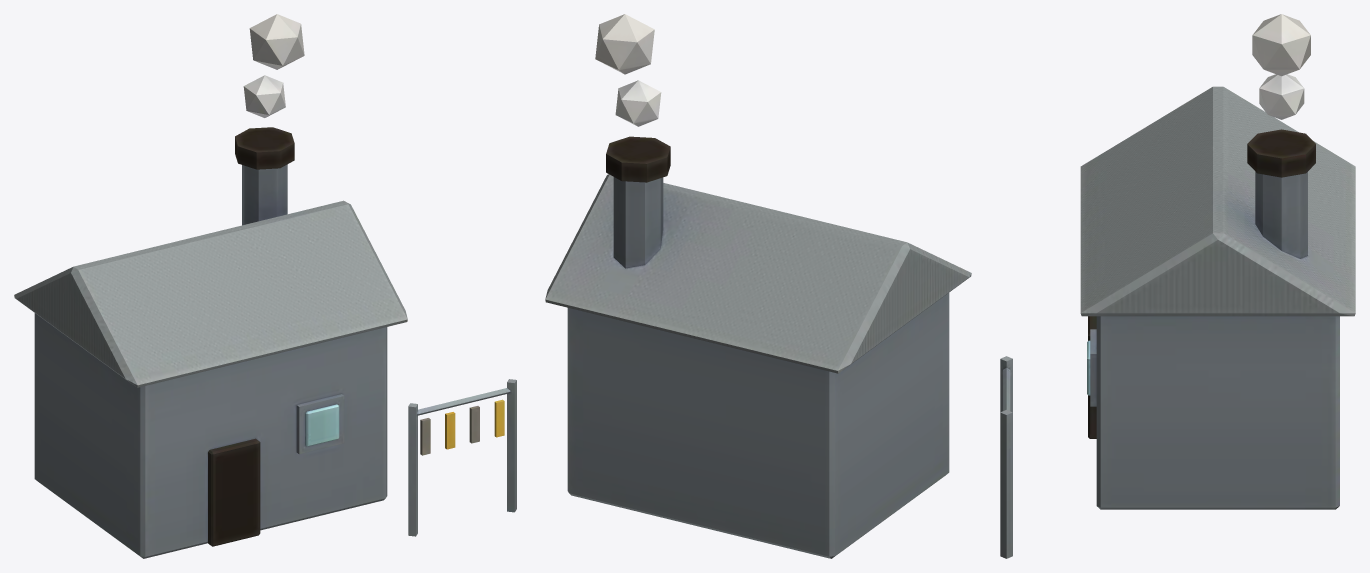
Rendered from smokehouse-2-age20.glb.
3 views of the same model, side by side, from view 1: azimuth 30°, elevation 25°; view 2: azimuth 150°, elevation 25°; view 3: azimuth 270°, elevation 25° (orthographic). The views are drawn at different scales.
Visible parts, largest first — view 1: smokehouse-2-age20; view 2: smokehouse-2-age20; view 3: smokehouse-2-age20.
Boxes of the visible parts, x1,y1,x2,y2 form: smokehouse-2-age20: [14, 14, 516, 558]; smokehouse-2-age20: [545, 14, 971, 558]; smokehouse-2-age20: [1000, 14, 1355, 558].
Size of the model in its own units: 0.852 by 1 by 0.672.
1 material, 1 textured.
